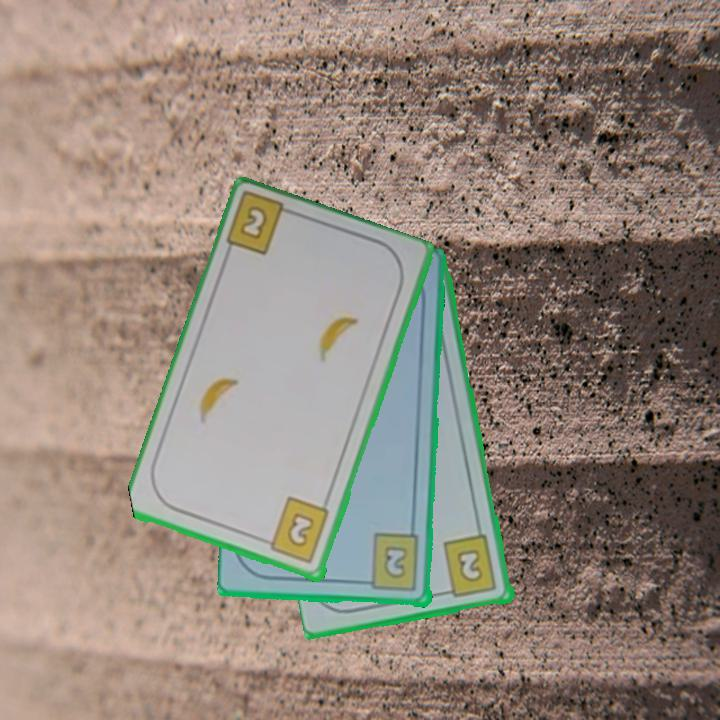2b: (258, 495, 333, 567), (223, 192, 301, 259), (439, 532, 500, 600), (359, 531, 423, 594)
